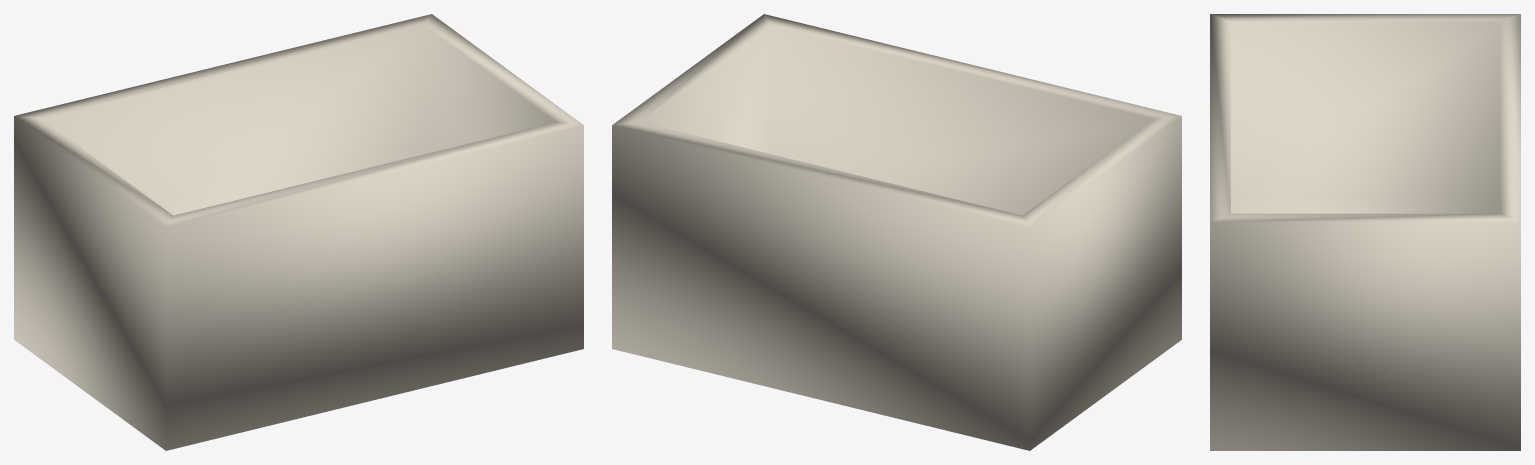
File: 071_すだち箱.glb
3 renders of one model, left to right at view 1: azimuth 30°, elevation 25°; view 2: azimuth 150°, elevation 25°; view 3: azimuth 270°, elevation 25°, orthographic. The views are drawn at different scales.
Visible parts, largest first — view 1: すだち箱; view 2: すだち箱; view 3: すだち箱.
Boxes of the visible parts, box(x1,y1,x2,y2) form: すだち箱: box(14, 14, 583, 450); すだち箱: box(612, 14, 1181, 450); すだち箱: box(1210, 14, 1520, 450).
Size of the model in its own units: 1.03 by 0.5281 by 0.6505.
